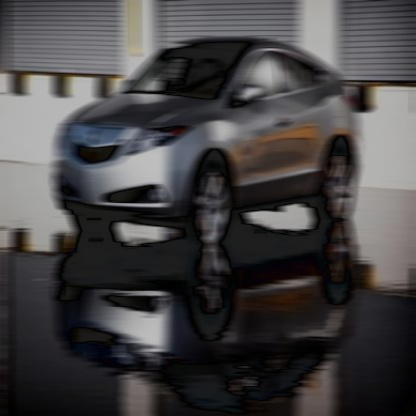Vehicle: (55, 35, 362, 250)
